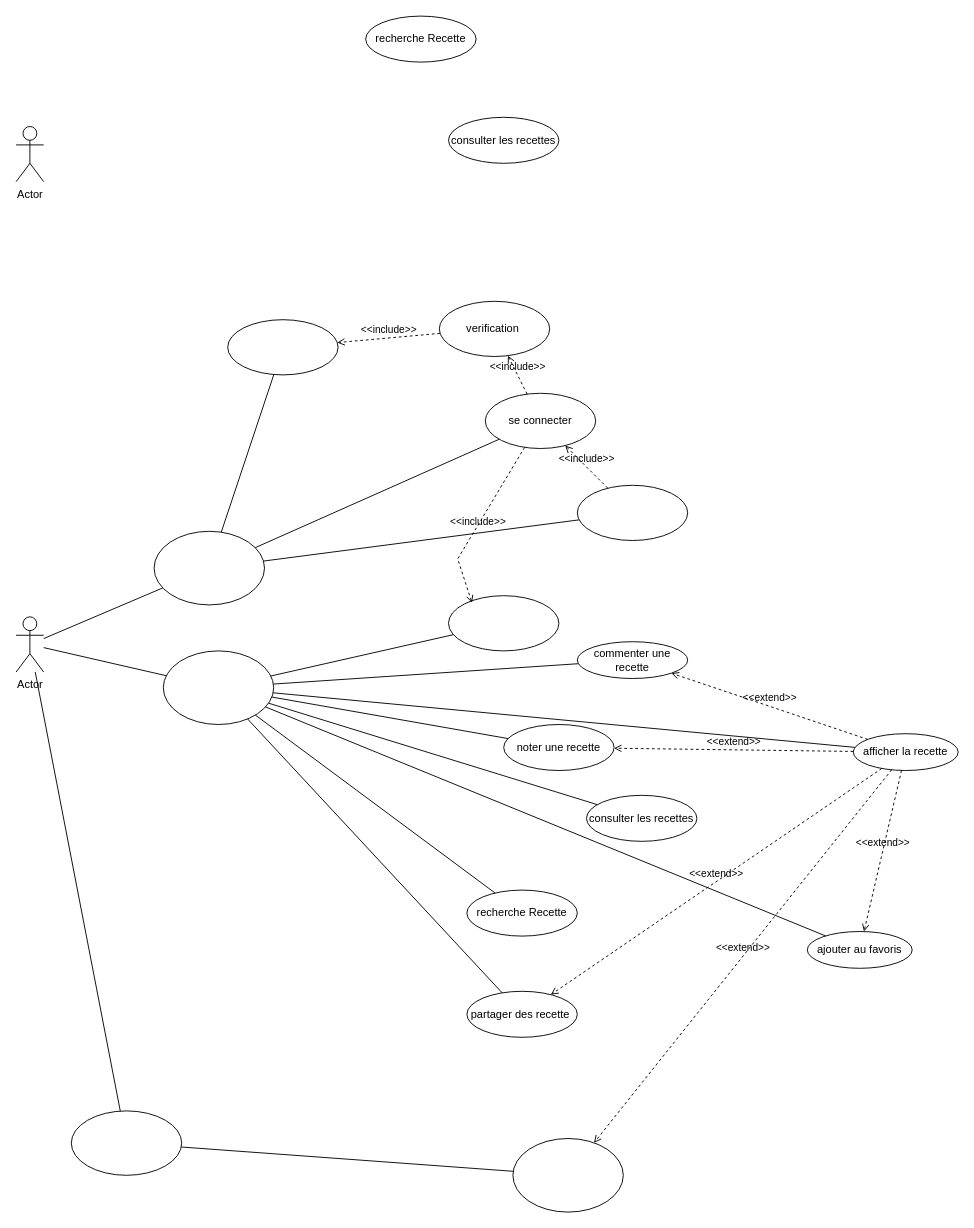
Image size: 974x1228. Some labels were removed from this diagram. The shapes that lost their labels are listed below. From the top down, each one's centre as x and y in pixels, then its label:
the point at 282,347: registration
the point at 632,512: modifier profil
the point at 208,567: gerer le profil
the point at 503,623: ajouter , modifier ,supprimer une recette
the point at 218,687: gerer les recettes
the point at 126,1142: gerer la liste de courses
the point at 567,1175: ajouter , modifier;supprimer des ingr
